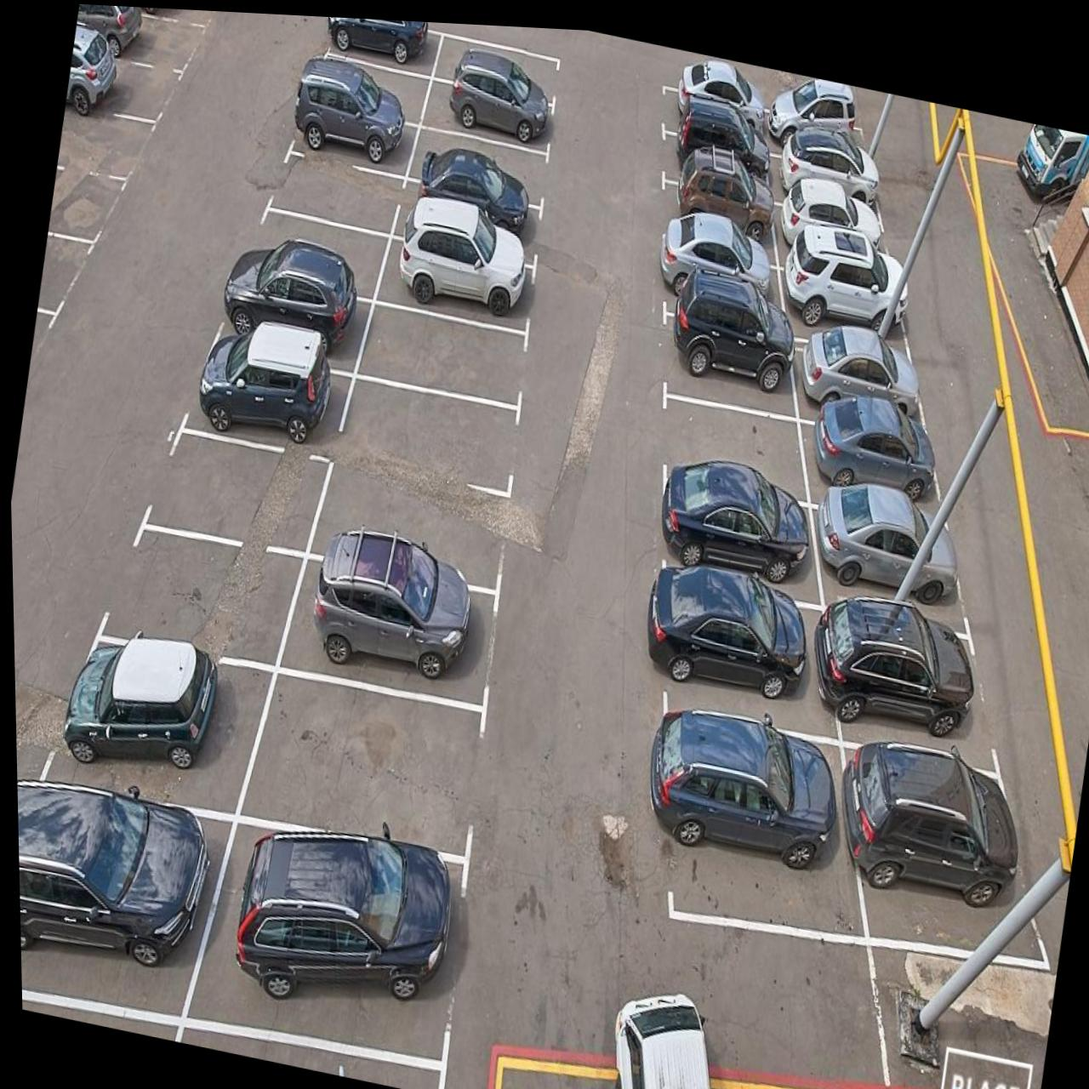cars: (201, 813, 477, 1058), (647, 701, 847, 952), (17, 770, 218, 1012), (849, 732, 1027, 981), (277, 535, 507, 713), (49, 627, 263, 812), (637, 566, 827, 714), (644, 454, 819, 584), (831, 604, 981, 749), (179, 333, 349, 452), (813, 483, 965, 615), (380, 229, 545, 333), (653, 301, 802, 413), (220, 262, 377, 364), (805, 397, 943, 504), (789, 321, 930, 419), (774, 244, 911, 334), (651, 222, 785, 313), (399, 172, 554, 248), (423, 74, 565, 154), (283, 91, 414, 172), (63, 47, 184, 134), (656, 165, 780, 246), (72, 4, 212, 75), (650, 121, 779, 198), (775, 192, 891, 274), (659, 74, 777, 145), (322, 17, 441, 83), (770, 152, 890, 216), (768, 106, 873, 166), (80, 4, 234, 30)
empty: (241, 662, 480, 856), (327, 358, 526, 511), (113, 515, 302, 670), (310, 454, 516, 579), (147, 419, 329, 558), (354, 285, 539, 403), (256, 145, 403, 241), (249, 207, 379, 298), (299, 43, 432, 129), (404, 126, 553, 201), (426, 31, 562, 104), (57, 105, 153, 180), (46, 164, 128, 251), (36, 230, 98, 320)
